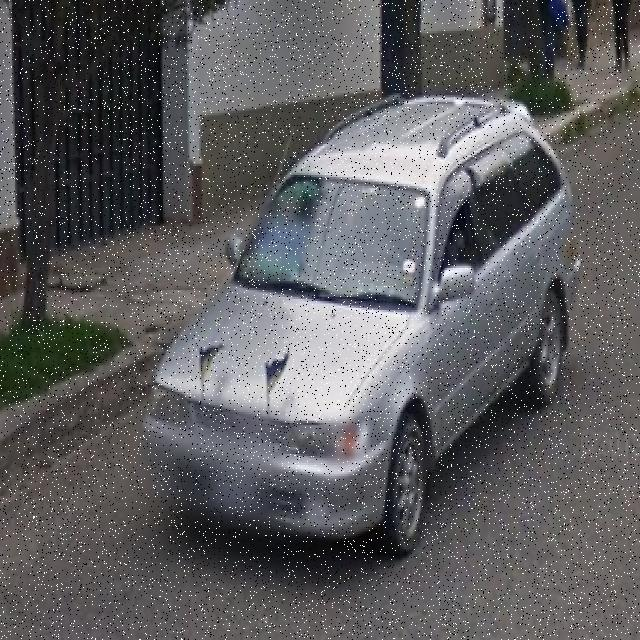cars: (134, 85, 579, 556)
